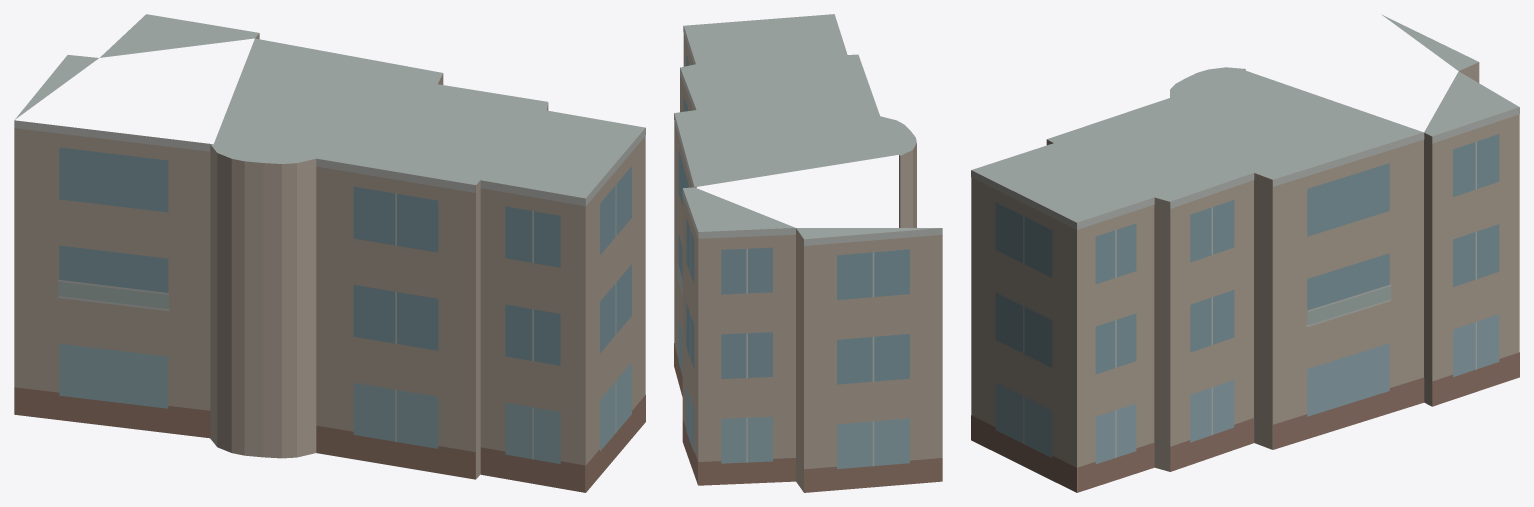
Rendered from survey-upis-32599922.glb.
The picture shows the model from 3 angles, left to right: view 1: azimuth 30°, elevation 25°; view 2: azimuth 150°, elevation 25°; view 3: azimuth 270°, elevation 25°; orthographic projection. The views are drawn at different scales.
Visible parts, largest first — view 1: survey-upis-32599922.tmp; view 2: survey-upis-32599922.tmp; view 3: survey-upis-32599922.tmp.
Part boxes in pixels (x1=…): survey-upis-32599922.tmp: x1=14, y1=14, x2=645, y2=492; survey-upis-32599922.tmp: x1=674, y1=14, x2=942, y2=492; survey-upis-32599922.tmp: x1=971, y1=14, x2=1519, y2=492.
Bounding box in the file's own units: 15.17 × 9.15 × 16.85.
